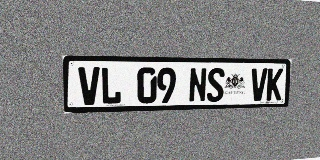0: (137, 67, 157, 104)
9: (157, 67, 176, 103)
K: (266, 68, 283, 101)
L: (100, 67, 121, 105)
N: (188, 68, 207, 102)
S: (207, 68, 225, 102)
V: (78, 67, 100, 105), (250, 68, 268, 101)
